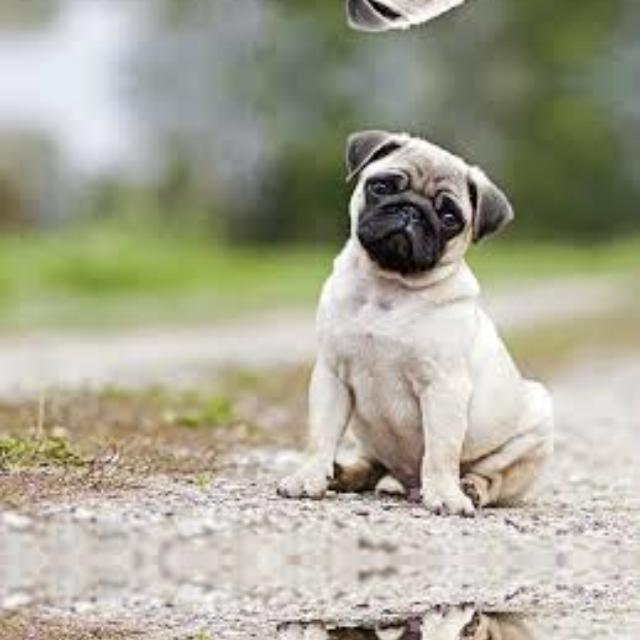dog: (273, 110, 562, 506), (272, 0, 561, 50), (272, 612, 561, 640)
